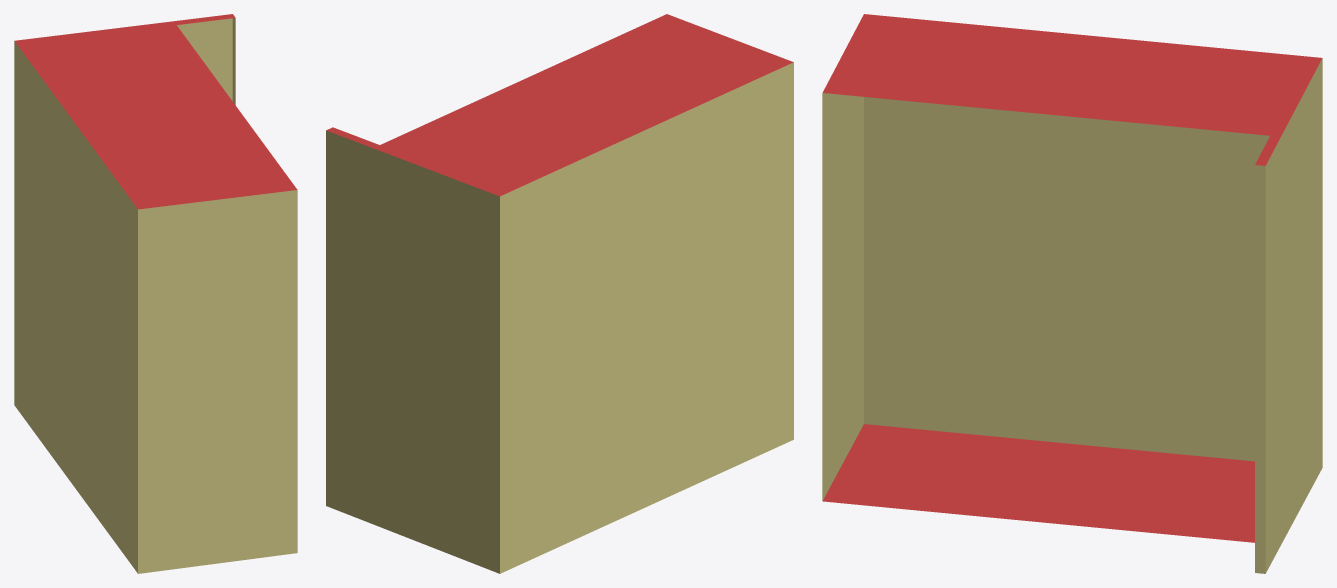
3 renders of one model, left to right at view 1: azimuth 30°, elevation 25°; view 2: azimuth 150°, elevation 25°; view 3: azimuth 270°, elevation 25°, orthographic. The views are drawn at different scales.
Visible parts, largest first — view 1: group_4, group_3; view 2: group_4, group_3; view 3: group_4, group_3, group_5.
Boxes of the visible parts, box(x1,y1,x2,y2) form: group_4: box(14, 18, 297, 573); group_3: box(14, 14, 297, 209); group_4: box(326, 62, 793, 573); group_3: box(326, 14, 793, 196); group_4: box(822, 58, 1322, 573); group_3: box(822, 14, 1322, 165); group_5: box(823, 424, 1254, 542).
Bounding box in the file's own units: 5.33 × 7.51 × 6.79.
